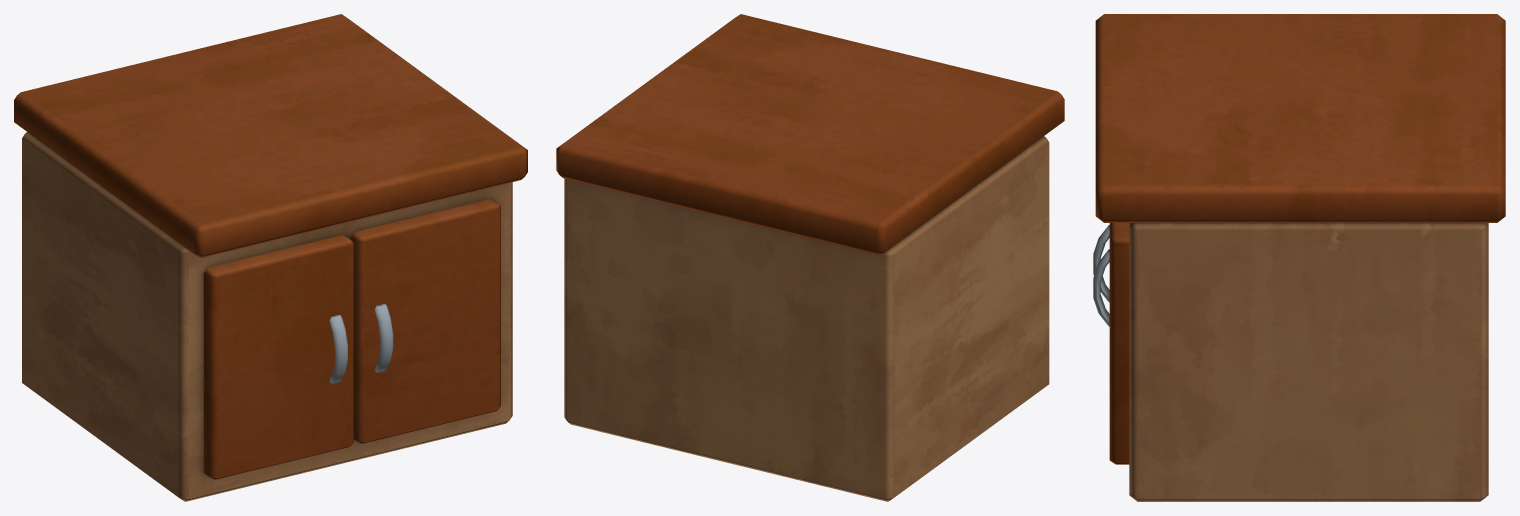
File: PlatesCounter_Visual.glb
3 views of the same model, side by side, from view 1: azimuth 30°, elevation 25°; view 2: azimuth 150°, elevation 25°; view 3: azimuth 270°, elevation 25° (orthographic). The views are drawn at different scales.
Visible parts, largest first — view 1: KitchenCounter; view 2: KitchenCounter; view 3: KitchenCounter.
Boxes of the visible parts, x1=… form: KitchenCounter: x1=14, y1=14, x2=527, y2=501; KitchenCounter: x1=556, y1=14, x2=1064, y2=501; KitchenCounter: x1=1093, y1=14, x2=1505, y2=501.
Size of the model in its own units: 1.53 by 1.26 by 1.49.
1 material, 1 textured.
